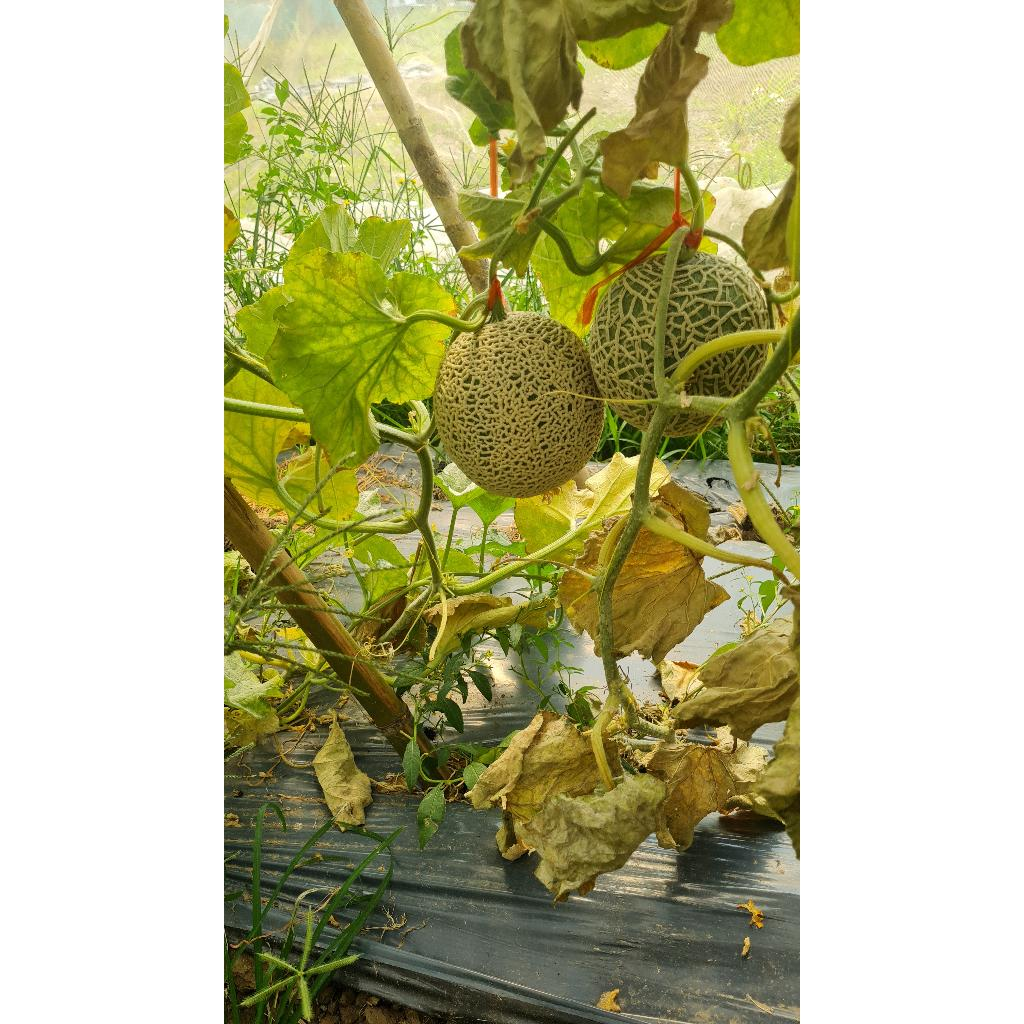melon: (434, 312, 604, 498), (664, 252, 770, 378), (588, 254, 666, 400), (686, 344, 768, 398), (610, 404, 654, 430), (664, 412, 708, 438)
